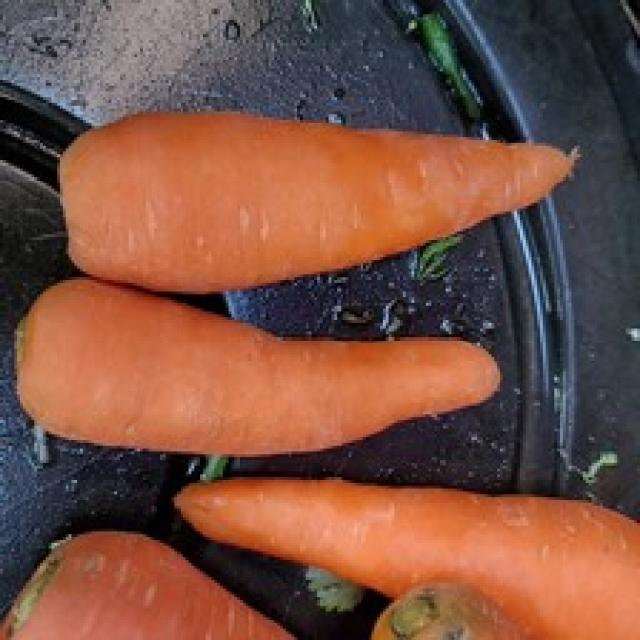carrot: (55, 100, 591, 297), (16, 275, 502, 456), (167, 478, 640, 640)
